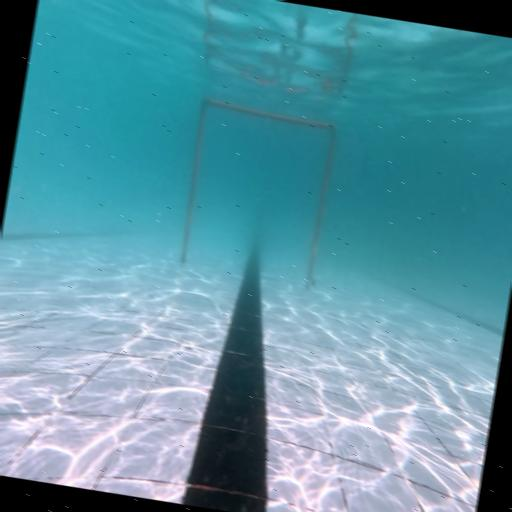gate: (174, 97, 340, 287)
